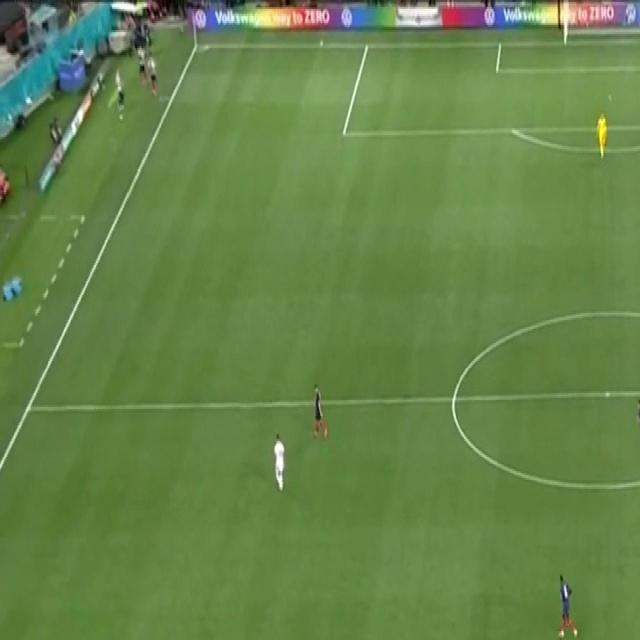ball: (117, 112, 125, 122)
player-white: (556, 569, 579, 640), (310, 383, 328, 442), (272, 430, 286, 493), (597, 106, 609, 160), (634, 393, 640, 462)
